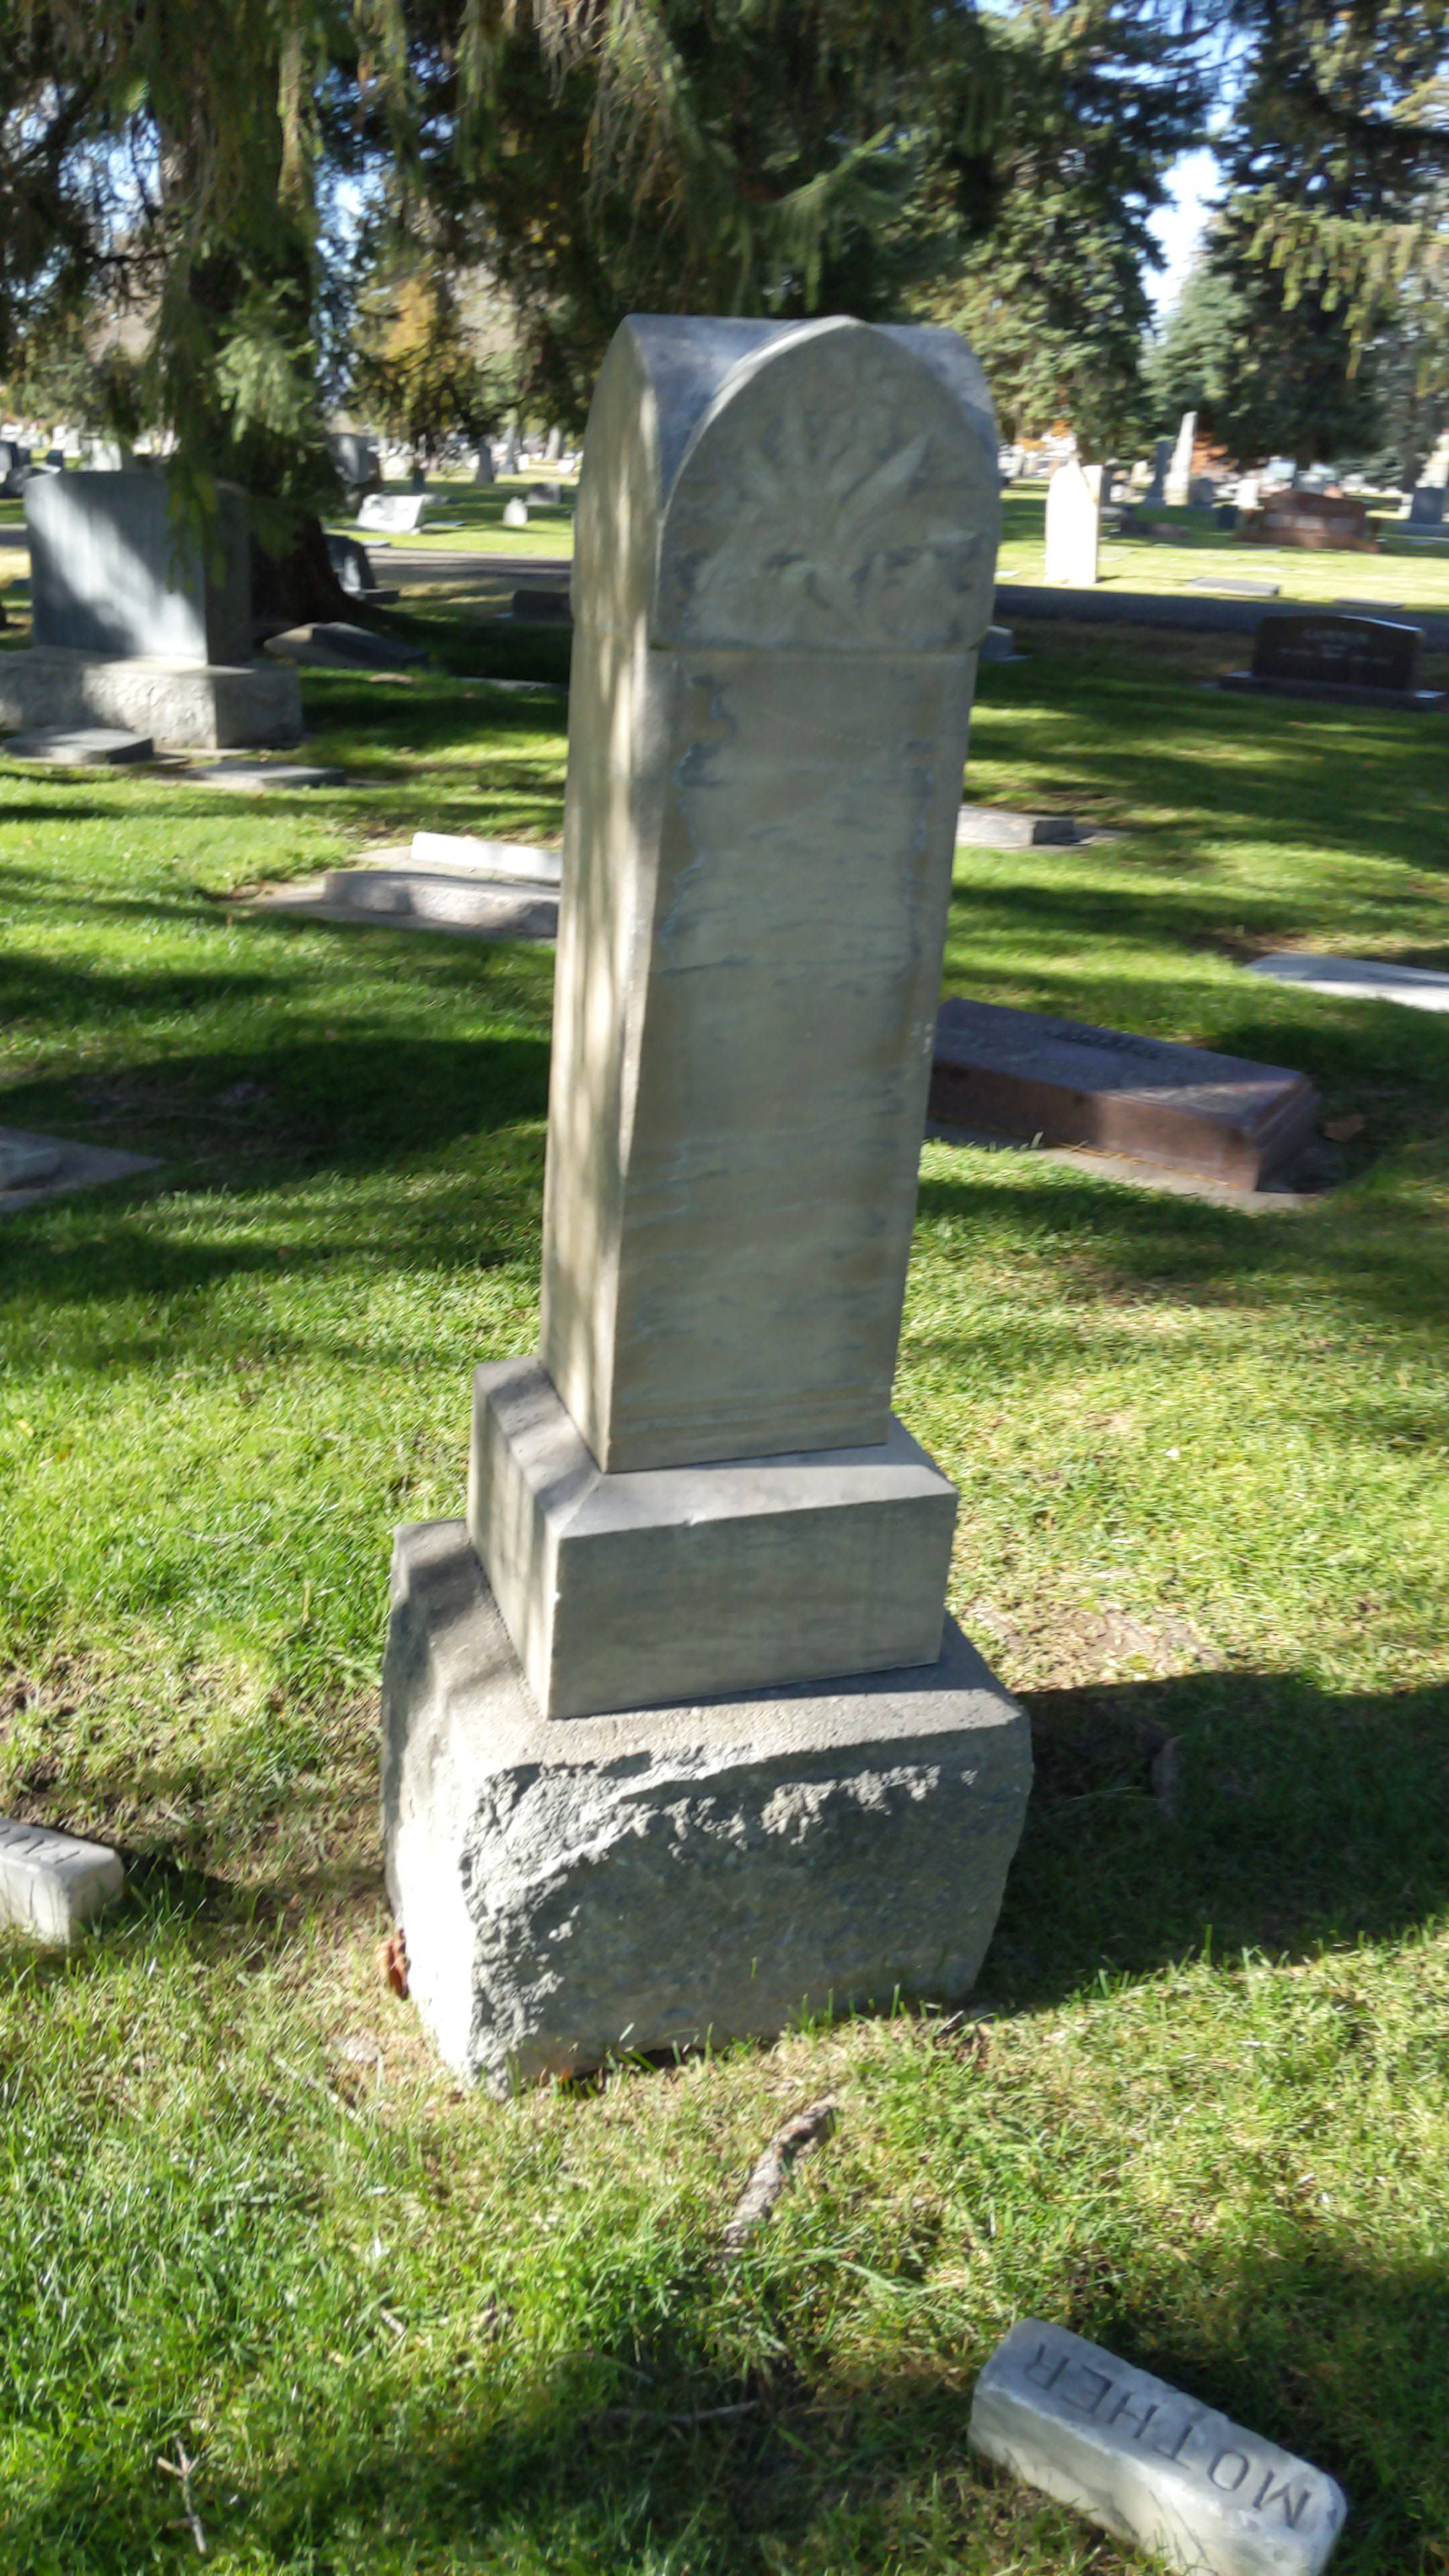obelisk: (467, 303, 1000, 1716)
